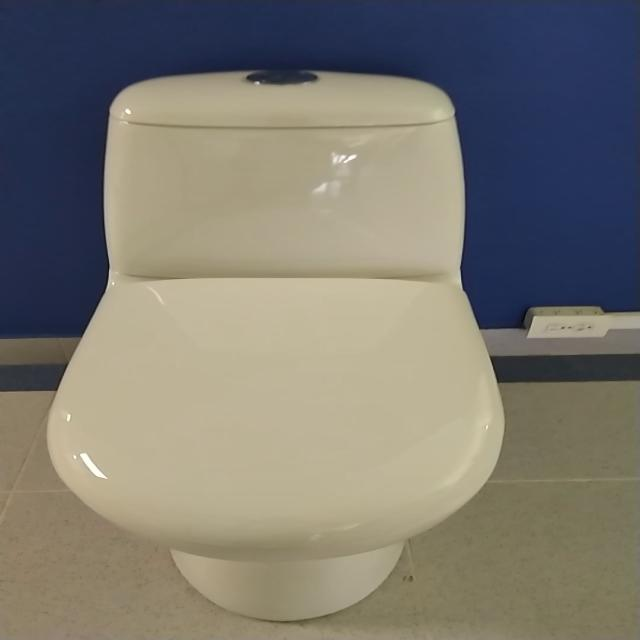toilet: (44, 68, 506, 622)
